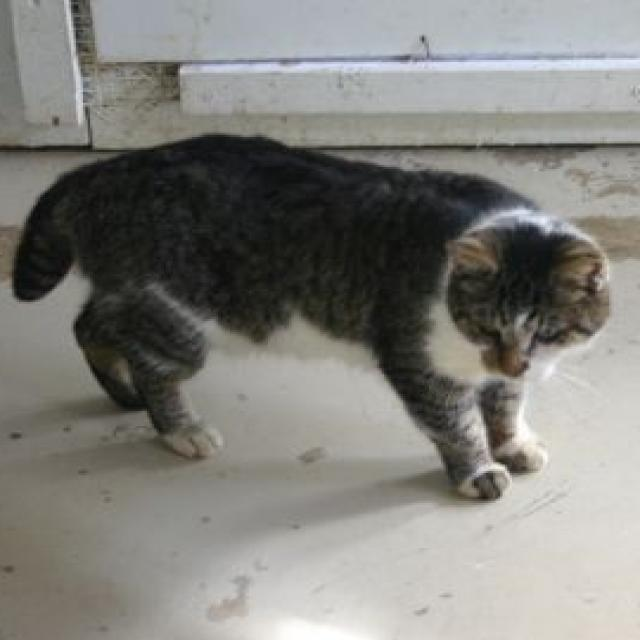American Bobtail: (8, 126, 617, 507)
